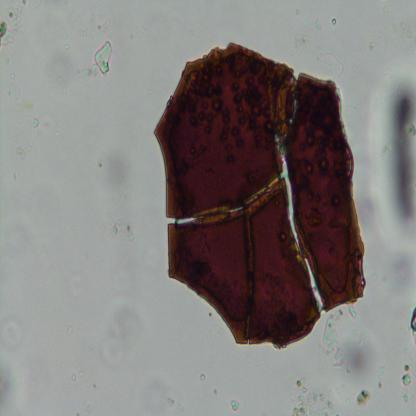Background material: (374, 83, 416, 252), (100, 296, 142, 365), (292, 377, 341, 416), (0, 0, 31, 51), (79, 40, 115, 81), (321, 317, 345, 369), (0, 356, 20, 404), (0, 316, 26, 352), (111, 215, 136, 243), (319, 52, 343, 78), (16, 141, 33, 161), (294, 31, 308, 55), (355, 388, 373, 406), (6, 82, 21, 102), (410, 304, 416, 347), (94, 20, 110, 35), (400, 22, 414, 39), (167, 397, 181, 412), (346, 307, 359, 323), (76, 276, 86, 296), (378, 368, 387, 388), (401, 372, 412, 388), (30, 115, 43, 128), (229, 400, 241, 412), (29, 0, 41, 11), (368, 36, 376, 52), (134, 26, 146, 35), (314, 18, 322, 30), (186, 28, 196, 37), (124, 195, 132, 206), (97, 156, 104, 167), (90, 14, 96, 26), (14, 170, 20, 182), (68, 324, 74, 336), (402, 393, 408, 404), (380, 4, 388, 12), (331, 17, 337, 27), (344, 366, 352, 373), (71, 372, 77, 380), (200, 374, 206, 382), (79, 31, 87, 37), (214, 388, 220, 395), (344, 398, 349, 406), (404, 365, 409, 371), (209, 362, 213, 369), (92, 385, 98, 389), (296, 9, 300, 15), (64, 44, 68, 50), (209, 312, 213, 318), (62, 90, 67, 94)
Fragment: (152, 43, 370, 352)
